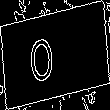O_N: (41, 26, 69, 84)
